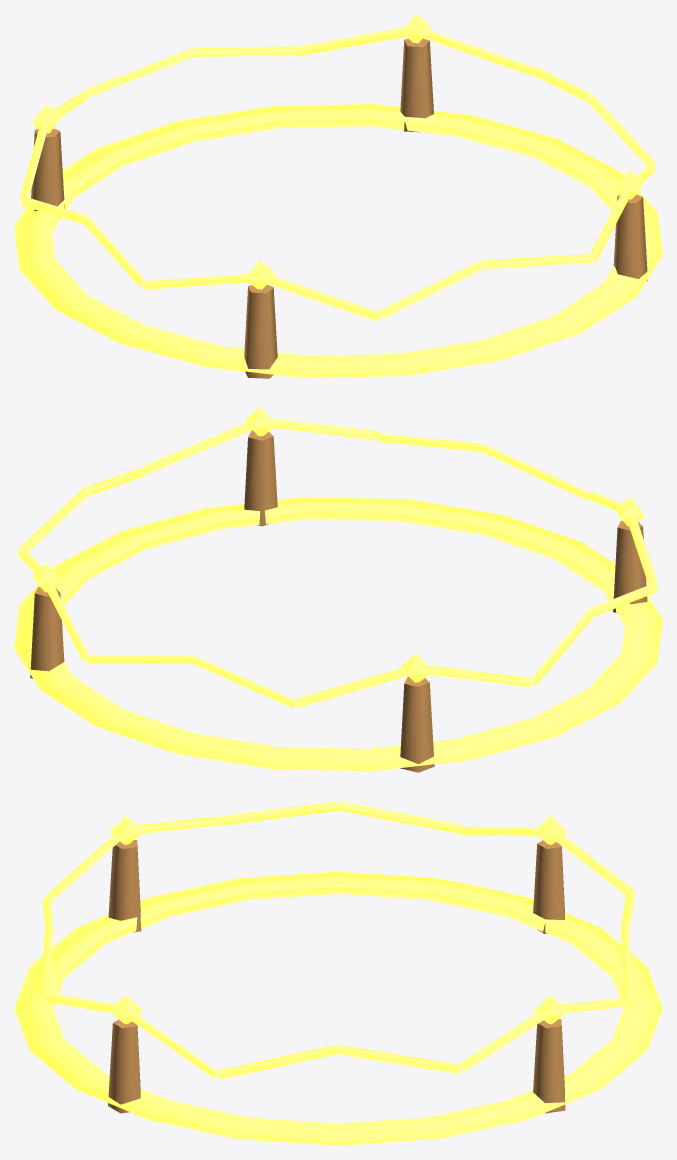
File: consumable_overload.glb
The picture shows the model from 3 angles, top to bottom: view 1: azimuth 30°, elevation 25°; view 2: azimuth 150°, elevation 25°; view 3: azimuth 270°, elevation 25°; orthographic projection.
Parts seen in each view (by area): view 1: overload_ring_band, overload_pole_1_rod, overload_pole_3_rod, overload_pole_0_rod, overload_pole_2_rod, overload_arc_0_3, overload_arc_2_3, overload_arc_3_0, overload_arc_0_2, overload_arc_2_1, overload_arc_0_1, overload_arc_2_2 (+7 smaller); view 2: overload_ring_band, overload_pole_2_rod, overload_pole_0_rod, overload_pole_3_rod, overload_pole_1_rod, overload_arc_2_0, overload_arc_3_3, overload_arc_0_0, overload_arc_0_2, overload_arc_1_3, overload_arc_2_1, overload_arc_2_2 (+7 smaller); view 3: overload_ring_band, overload_pole_0_rod, overload_pole_3_rod, overload_pole_1_rod, overload_pole_2_rod, overload_arc_3_2, overload_arc_3_1, overload_arc_1_1, overload_arc_1_2, overload_arc_3_0, overload_arc_2_0, overload_arc_3_3 (+11 smaller).
Part boxes in pixels (x1=…): overload_ring_band: x1=14, y1=104, x2=662, y2=378; overload_pole_1_rod: x1=244, y1=284, x2=277, y2=378; overload_pole_3_rod: x1=400, y1=38, x2=433, y2=132; overload_pole_0_rod: x1=613, y1=194, x2=647, y2=280; overload_pole_2_rod: x1=31, y1=128, x2=64, y2=211; overload_arc_0_3: x1=268, y1=276, x2=380, y2=321; overload_arc_2_3: x1=295, y1=27, x2=405, y2=56; overload_arc_3_0: x1=424, y1=29, x2=532, y2=75; overload_arc_0_2: x1=378, y1=260, x2=485, y2=318; overload_arc_2_1: x1=84, y1=48, x2=195, y2=97; overload_arc_0_1: x1=482, y1=254, x2=593, y2=268; overload_arc_2_2: x1=193, y1=46, x2=299, y2=57; overload_ring_band: x1=14, y1=497, x2=662, y2=771; overload_pole_2_rod: x1=400, y1=677, x2=434, y2=772; overload_pole_0_rod: x1=244, y1=430, x2=277, y2=526; overload_pole_3_rod: x1=30, y1=587, x2=64, y2=678; overload_pole_1_rod: x1=613, y1=521, x2=647, y2=612; overload_arc_2_0: x1=295, y1=667, x2=407, y2=707; overload_arc_3_3: x1=144, y1=421, x2=251, y2=473; overload_arc_0_0: x1=270, y1=418, x2=380, y2=440; overload_arc_0_2: x1=481, y1=444, x2=589, y2=500; overload_arc_1_3: x1=426, y1=665, x2=532, y2=687; overload_arc_2_1: x1=191, y1=655, x2=295, y2=708; overload_arc_2_2: x1=85, y1=655, x2=192, y2=663; overload_ring_band: x1=14, y1=871, x2=662, y2=1145; overload_pole_0_rod: x1=108, y1=1019, x2=140, y2=1113; overload_pole_3_rod: x1=533, y1=1019, x2=565, y2=1113; overload_pole_1_rod: x1=108, y1=840, x2=141, y2=932; overload_pole_2_rod: x1=533, y1=840, x2=564, y2=933; overload_arc_3_2: x1=217, y1=1045, x2=338, y2=1079; overload_arc_3_1: x1=337, y1=1045, x2=460, y2=1074; overload_arc_1_1: x1=216, y1=801, x2=338, y2=826; overload_arc_1_2: x1=338, y1=801, x2=459, y2=833; overload_arc_3_0: x1=458, y1=1010, x2=546, y2=1071; overload_arc_2_0: x1=554, y1=834, x2=635, y2=895; overload_arc_3_3: x1=129, y1=1012, x2=217, y2=1079.
Bounding box in the file's own units: 0.53 × 0.1 × 0.53.
